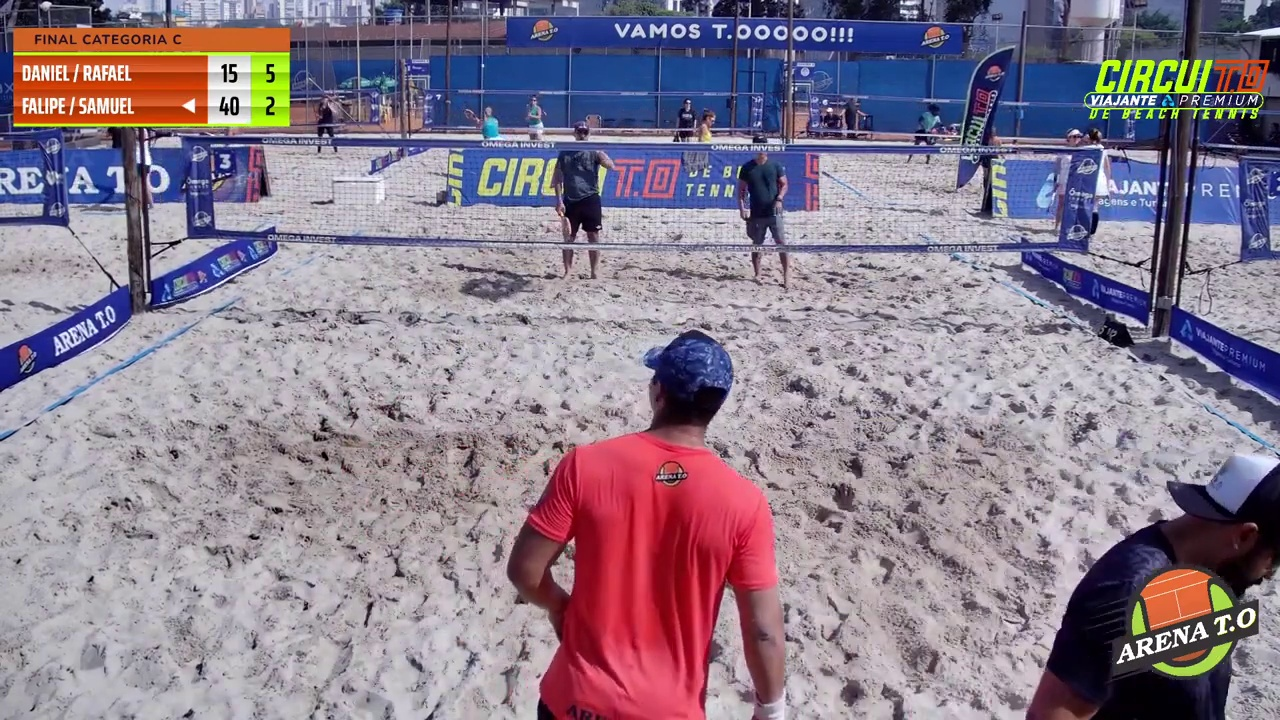court_line: (639, 0, 804, 528), (534, 0, 677, 524)
